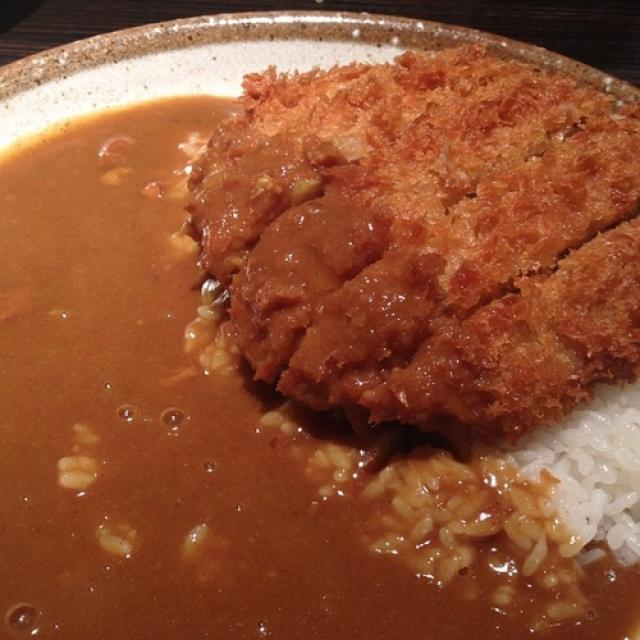炸货点心: (0, 2, 634, 626)
